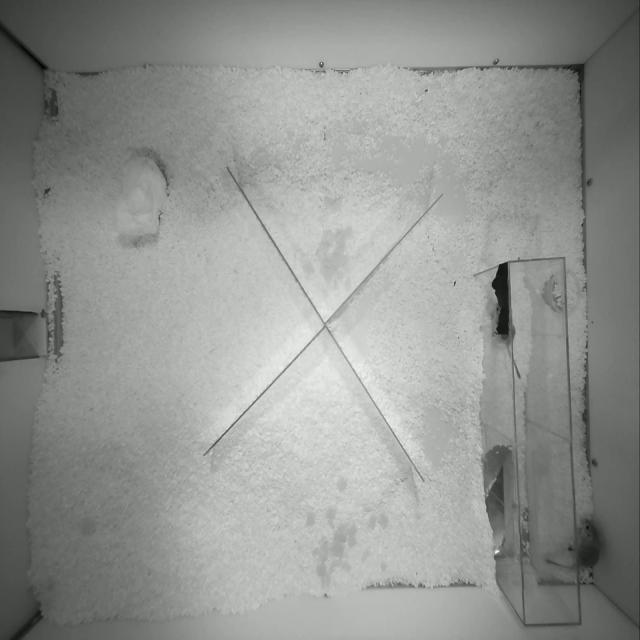pup_fluffy: (546, 519, 601, 569)
pup_spotted: (491, 308, 521, 378)
